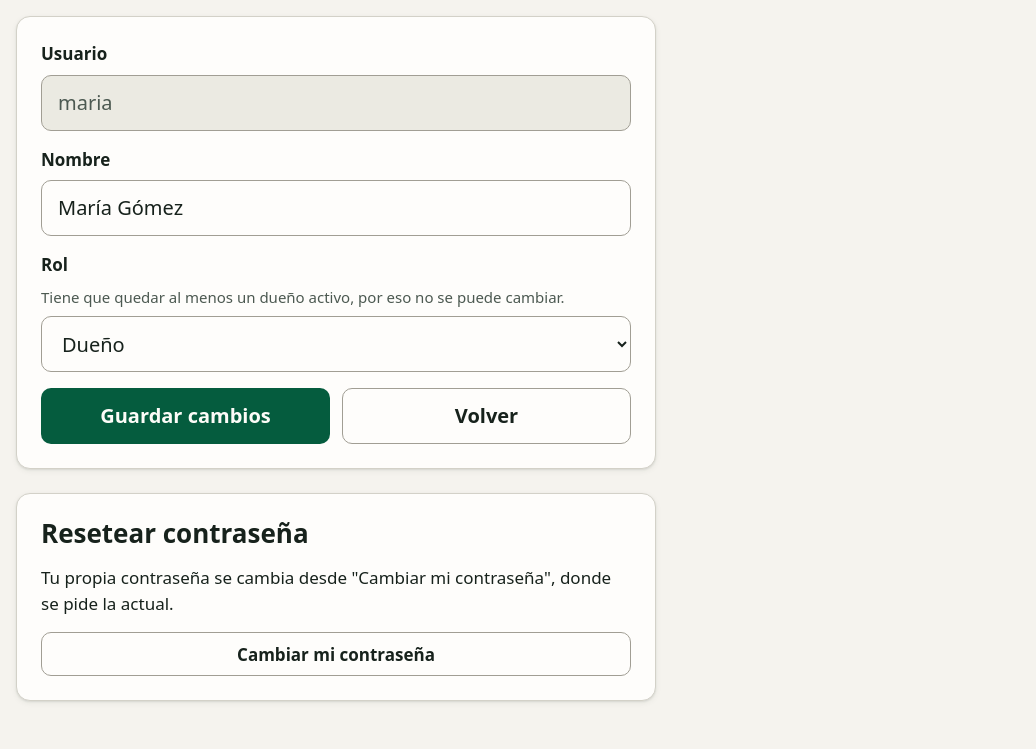
Test: UserFormPage › en su propio usuario no hay "Resetear contraseña": lleva a "Cambiar mi contraseña"
The image size is (1036, 749).
(page scrolled)
Expected: the field labelled "Contraseña nueva" is not shown
Click the link "Cambiar mi contraseña". click: click(336, 654)
box: [41,632,631,676]
(page scrolled)
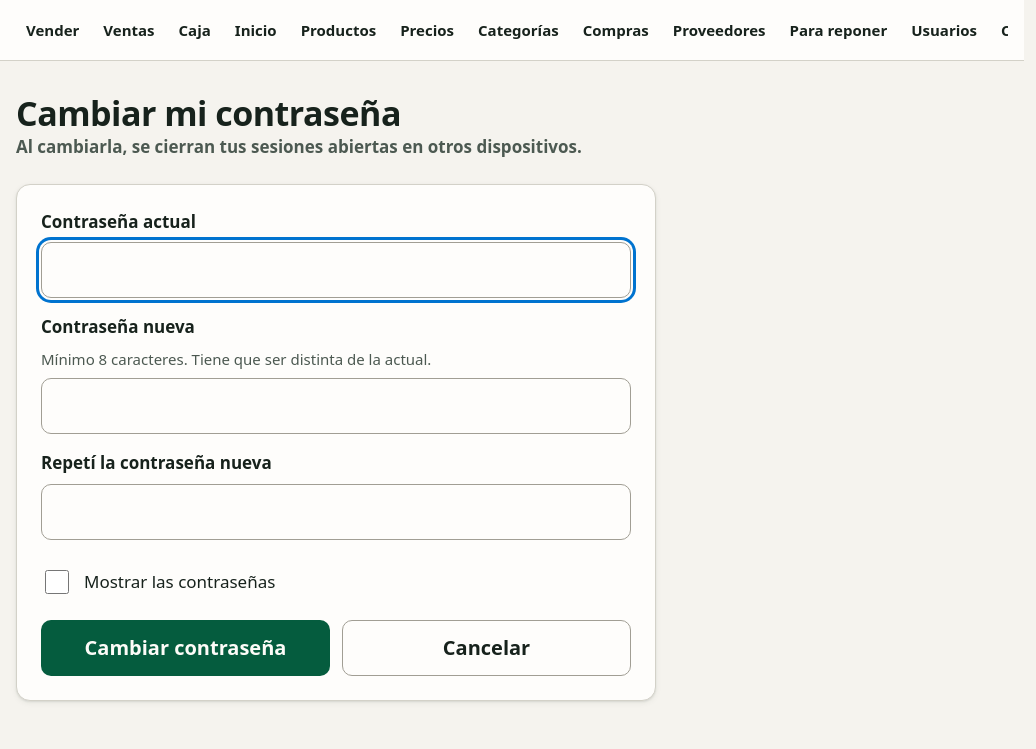
Expected: the heading "Cambiar mi contraseña" is shown, [16,90,401,136]
